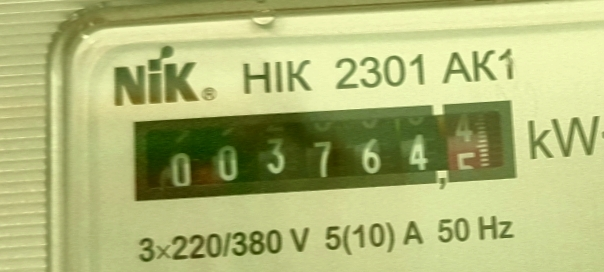0: (167, 149, 193, 188), (215, 142, 239, 183)
3: (262, 135, 287, 176)
4: (407, 132, 429, 172), (452, 111, 475, 144)
5: (454, 149, 477, 172)
6: (359, 136, 382, 176)
7: (310, 137, 336, 180)
screen: (115, 82, 532, 217)
